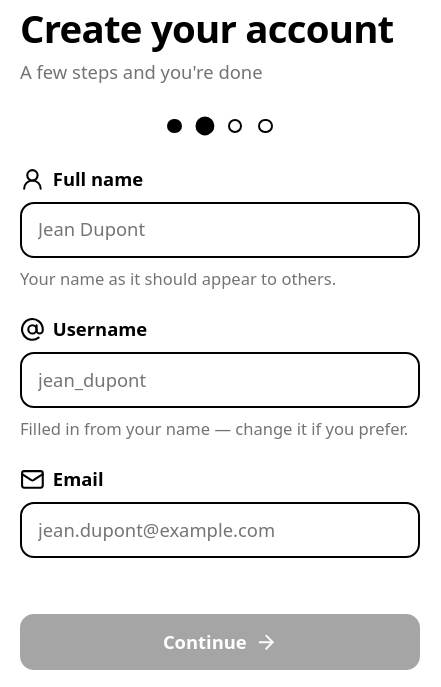
Test: wizard flow › next is disabled until all identity fields are valid
The width and height of the screenshot is (441, 687).
Expected: the button "Continue" is disabled, [20,614,420,670]
Type "Alice Smith" into the field labelled "Full name" at (220, 230), box [20,202,420,258]
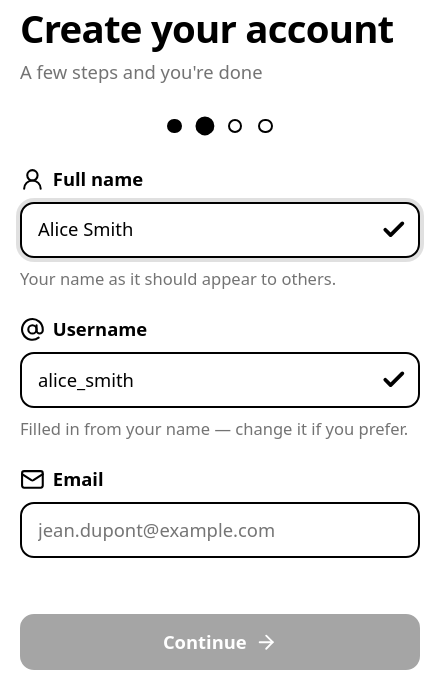
Now the field labelled "Username" holds "alice_smith", box [20,352,420,408]
Type "alice@example.com" into the field labelled "Email" at (220, 530), box [20,502,420,558]
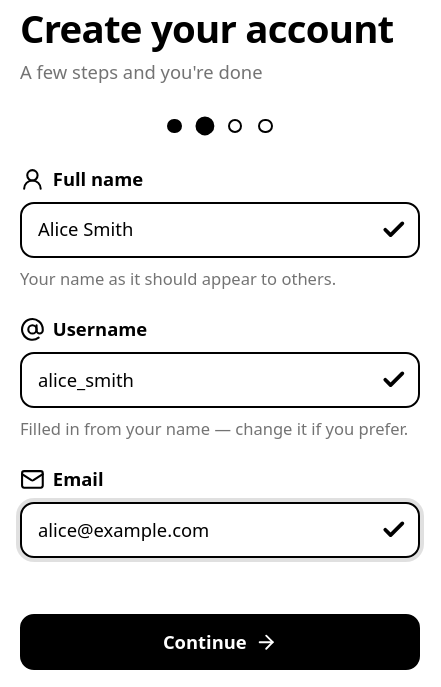
Now the button "Continue" is enabled, box [20,614,420,670]
